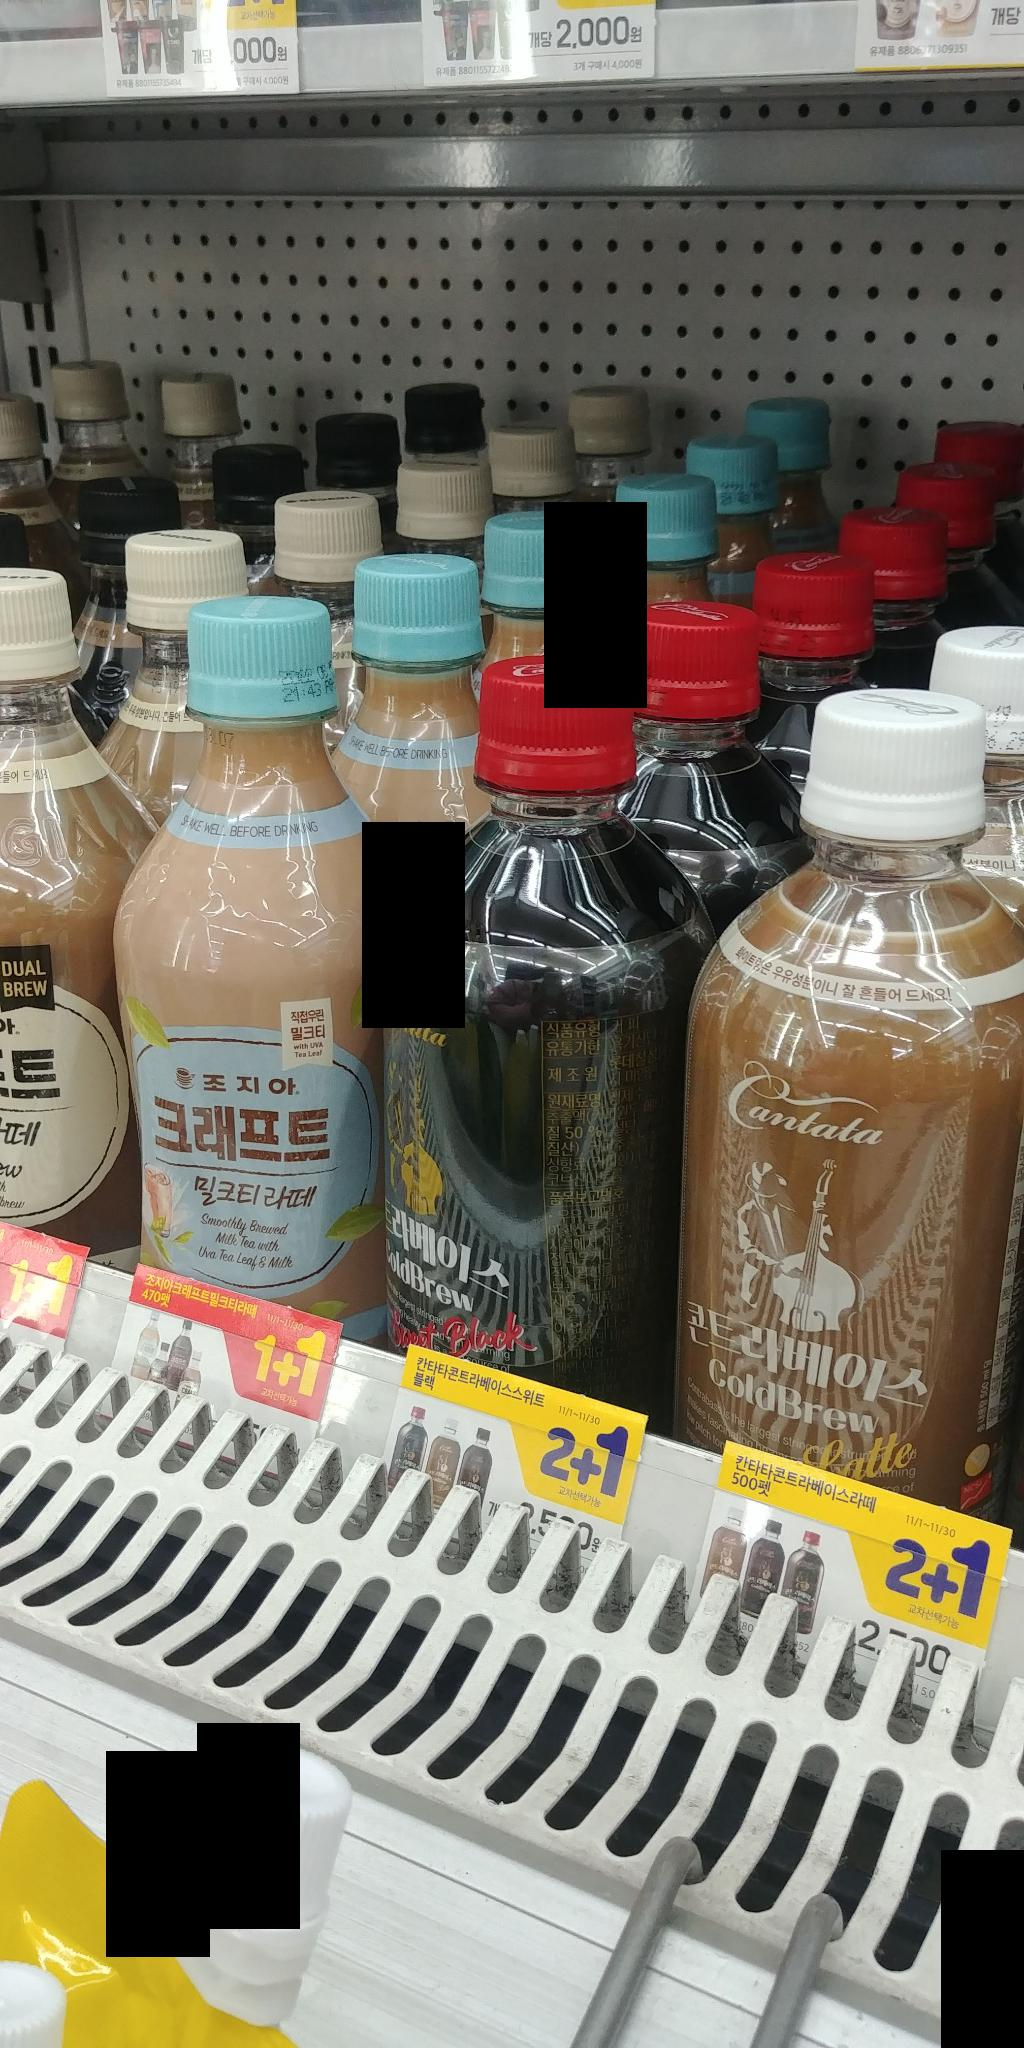contrabass_sweetblack: (360, 645, 716, 1435)
